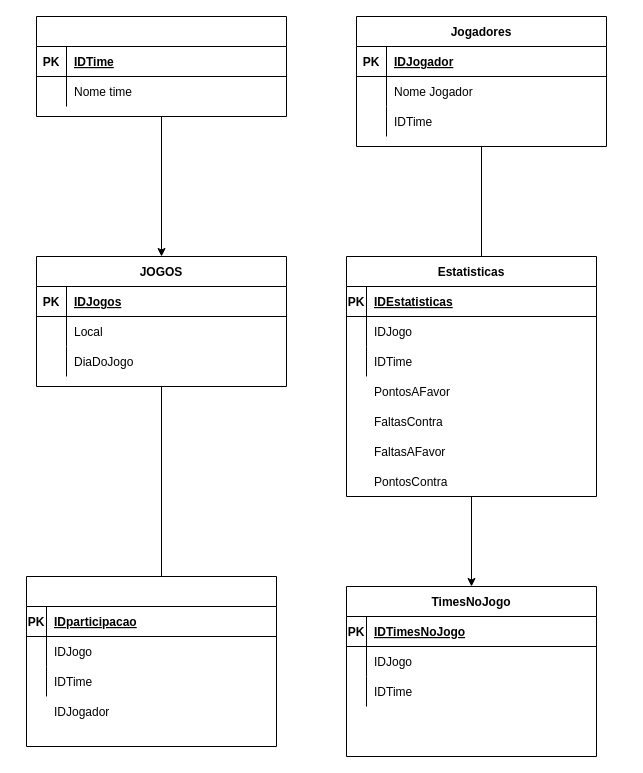
Image size: 643x773. Some labels were removed from this diagram. Here are the shapes that lost their labels. From the top down, the box of each, then its label:
(36, 16, 286, 116): TIMES
(26, 576, 276, 746): ParticipaçãoJogadores
